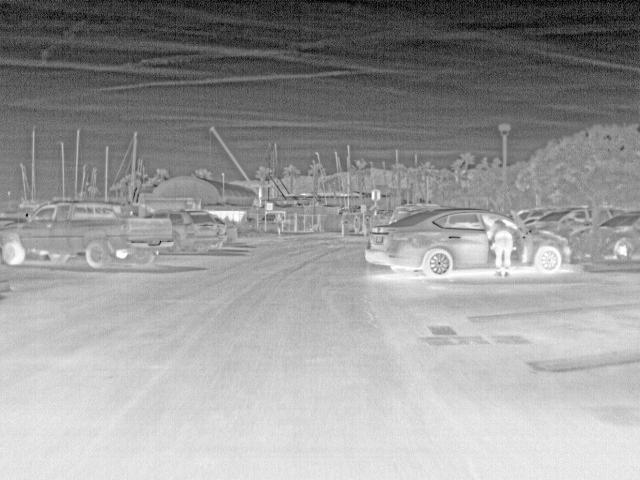car: (2, 201, 176, 269), (363, 206, 488, 281), (518, 229, 574, 273), (175, 207, 221, 255), (599, 213, 640, 262), (540, 207, 583, 229), (217, 218, 231, 248), (520, 207, 540, 224)
person: (489, 218, 516, 280), (274, 211, 287, 237)
